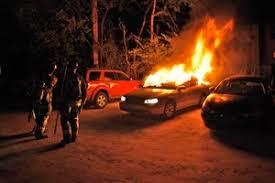fire: (142, 18, 231, 89)
